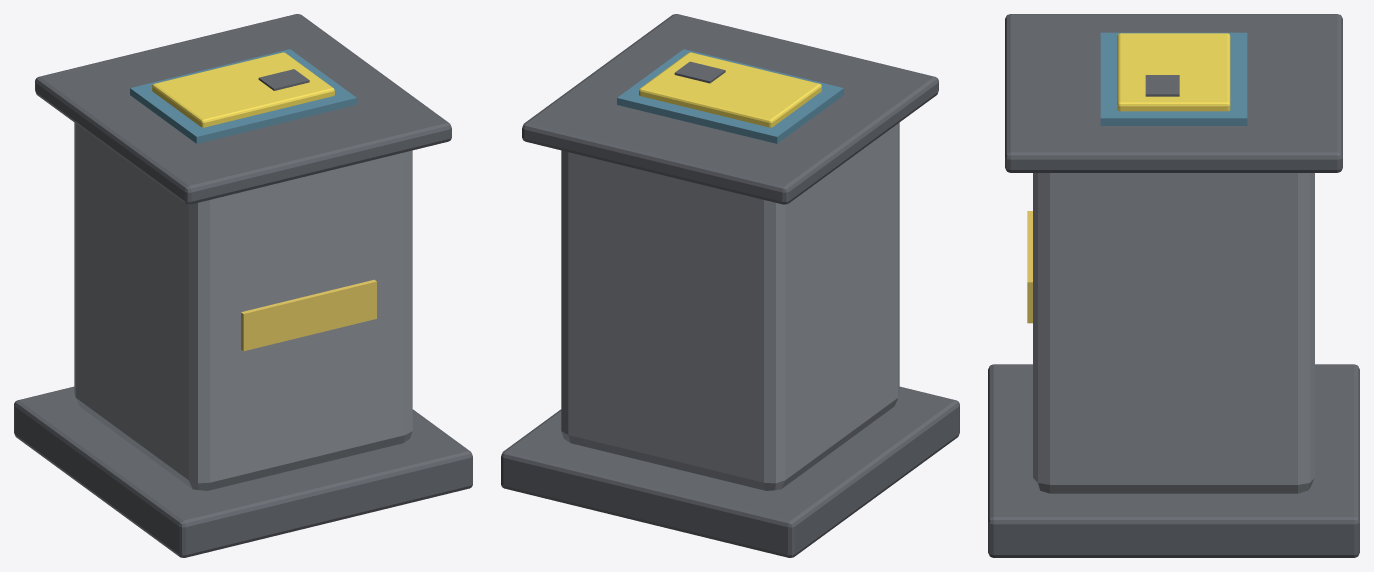
The model's file is obj_keycard.fbx.
The picture shows the model from 3 angles, left to right: view 1: azimuth 30°, elevation 25°; view 2: azimuth 150°, elevation 25°; view 3: azimuth 270°, elevation 25°; orthographic projection. The views are drawn at different scales.
Parts seen in each view (by area): view 1: obj_keycard; view 2: obj_keycard; view 3: obj_keycard.
Part boxes in pixels (x1,y1,x2,y2): obj_keycard: (14, 14, 472, 557); obj_keycard: (501, 14, 959, 557); obj_keycard: (988, 14, 1359, 557).
Size of the model in its own units: 0.66 by 0.8145 by 0.66.
